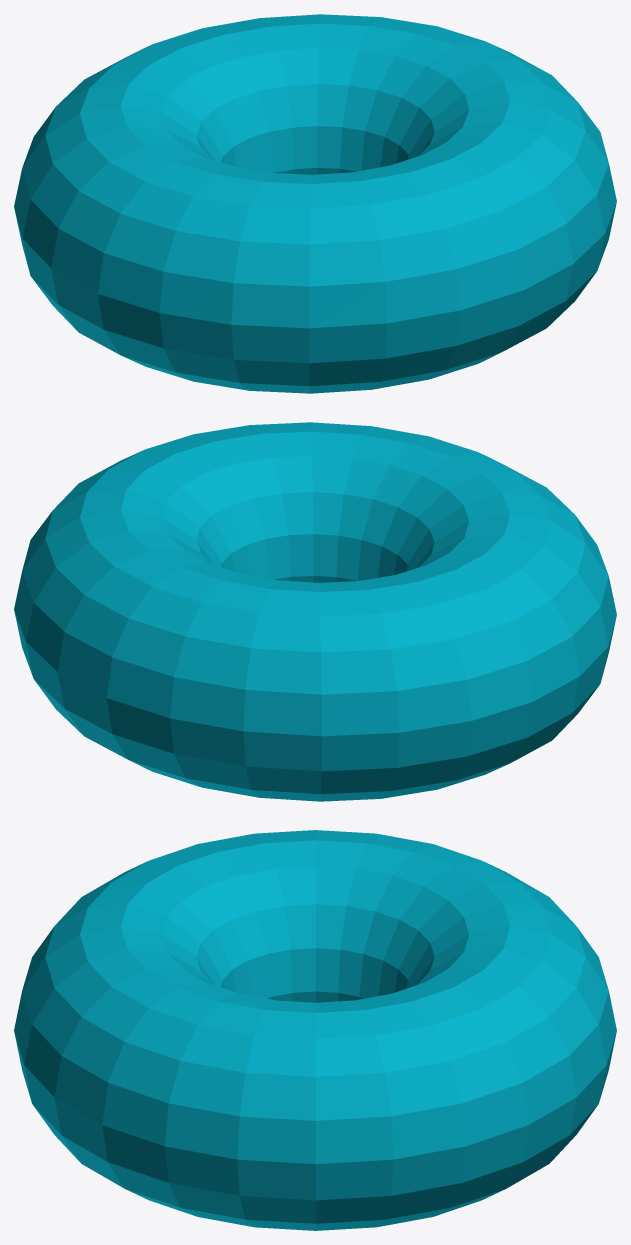
The model's file is Dex donut.glb.
3 views of the same model, one above another, from view 1: azimuth 30°, elevation 25°; view 2: azimuth 150°, elevation 25°; view 3: azimuth 270°, elevation 25° (orthographic). The views are drawn at different scales.
Visible parts, largest first — view 1: Mesh_Mesh_head_geo.001_lambert2SG.001; view 2: Mesh_Mesh_head_geo.001_lambert2SG.001; view 3: Mesh_Mesh_head_geo.001_lambert2SG.001.
Boxes of the visible parts, x1,y1,x2,y2 form: Mesh_Mesh_head_geo.001_lambert2SG.001: (14,14,616,393); Mesh_Mesh_head_geo.001_lambert2SG.001: (14,422,616,801); Mesh_Mesh_head_geo.001_lambert2SG.001: (14,830,616,1230).
Bounding box in the file's own units: 58 × 21.01 × 55.26.
